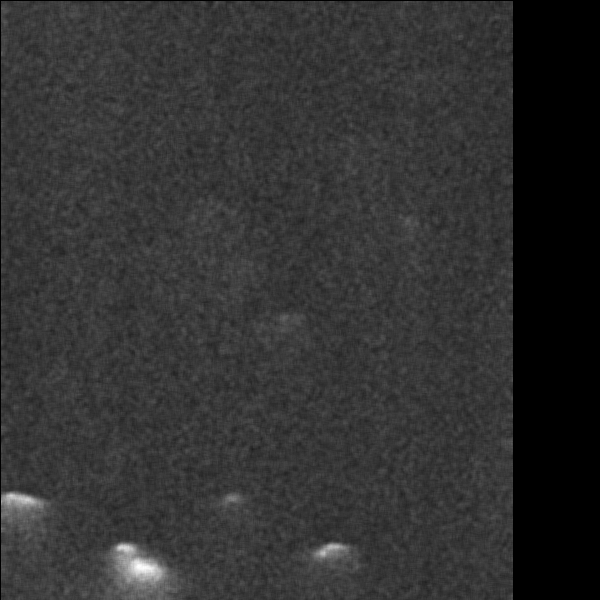spark: (358, 217, 408, 251), (2, 165, 16, 206)
